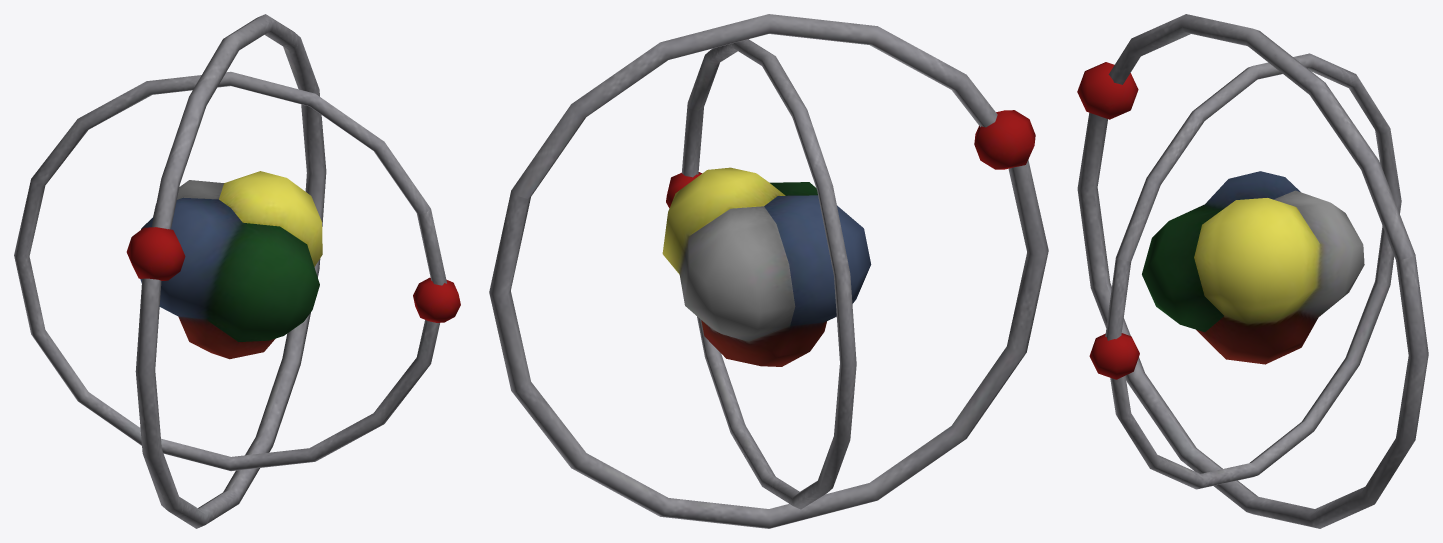
File: infotron_16.obj
3 renders of one model, left to right at view 1: azimuth 30°, elevation 25°; view 2: azimuth 150°, elevation 25°; view 3: azimuth 270°, elevation 25°, orthographic. The views are drawn at different scales.
Visible parts, largest first — view 1: unwrapped2, Object09, Object10, Object12, Object11; view 2: Object09, unwrapped2, Object10, Object12; view 3: unwrapped2, Object09, Object10, Object12, Object11.
Part boxes in pixels (x1,y1,x2,y2): unwrapped2: (140,171,322,359); Object09: (135,14,326,528); Object10: (14,71,446,471); Object12: (126,227,185,280); Object11: (413,277,460,322); Object09: (489,14,1048,528); unwrapped2: (662,167,871,366); Object10: (681,39,856,509); Object12: (974,110,1035,169); unwrapped2: (1142,171,1364,364); Object09: (1077,14,1428,528); Object10: (1105,53,1401,489); Object12: (1077,62,1138,119); Object11: (1089,333,1139,379).
Bounding box in the file's own units: 27.27 × 35.32 × 23.17.
1 material, 1 textured.
